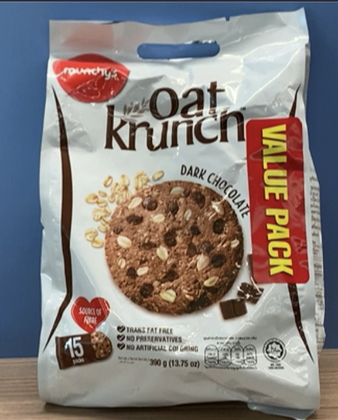cookies_300g-399g: (55, 69, 298, 373)
